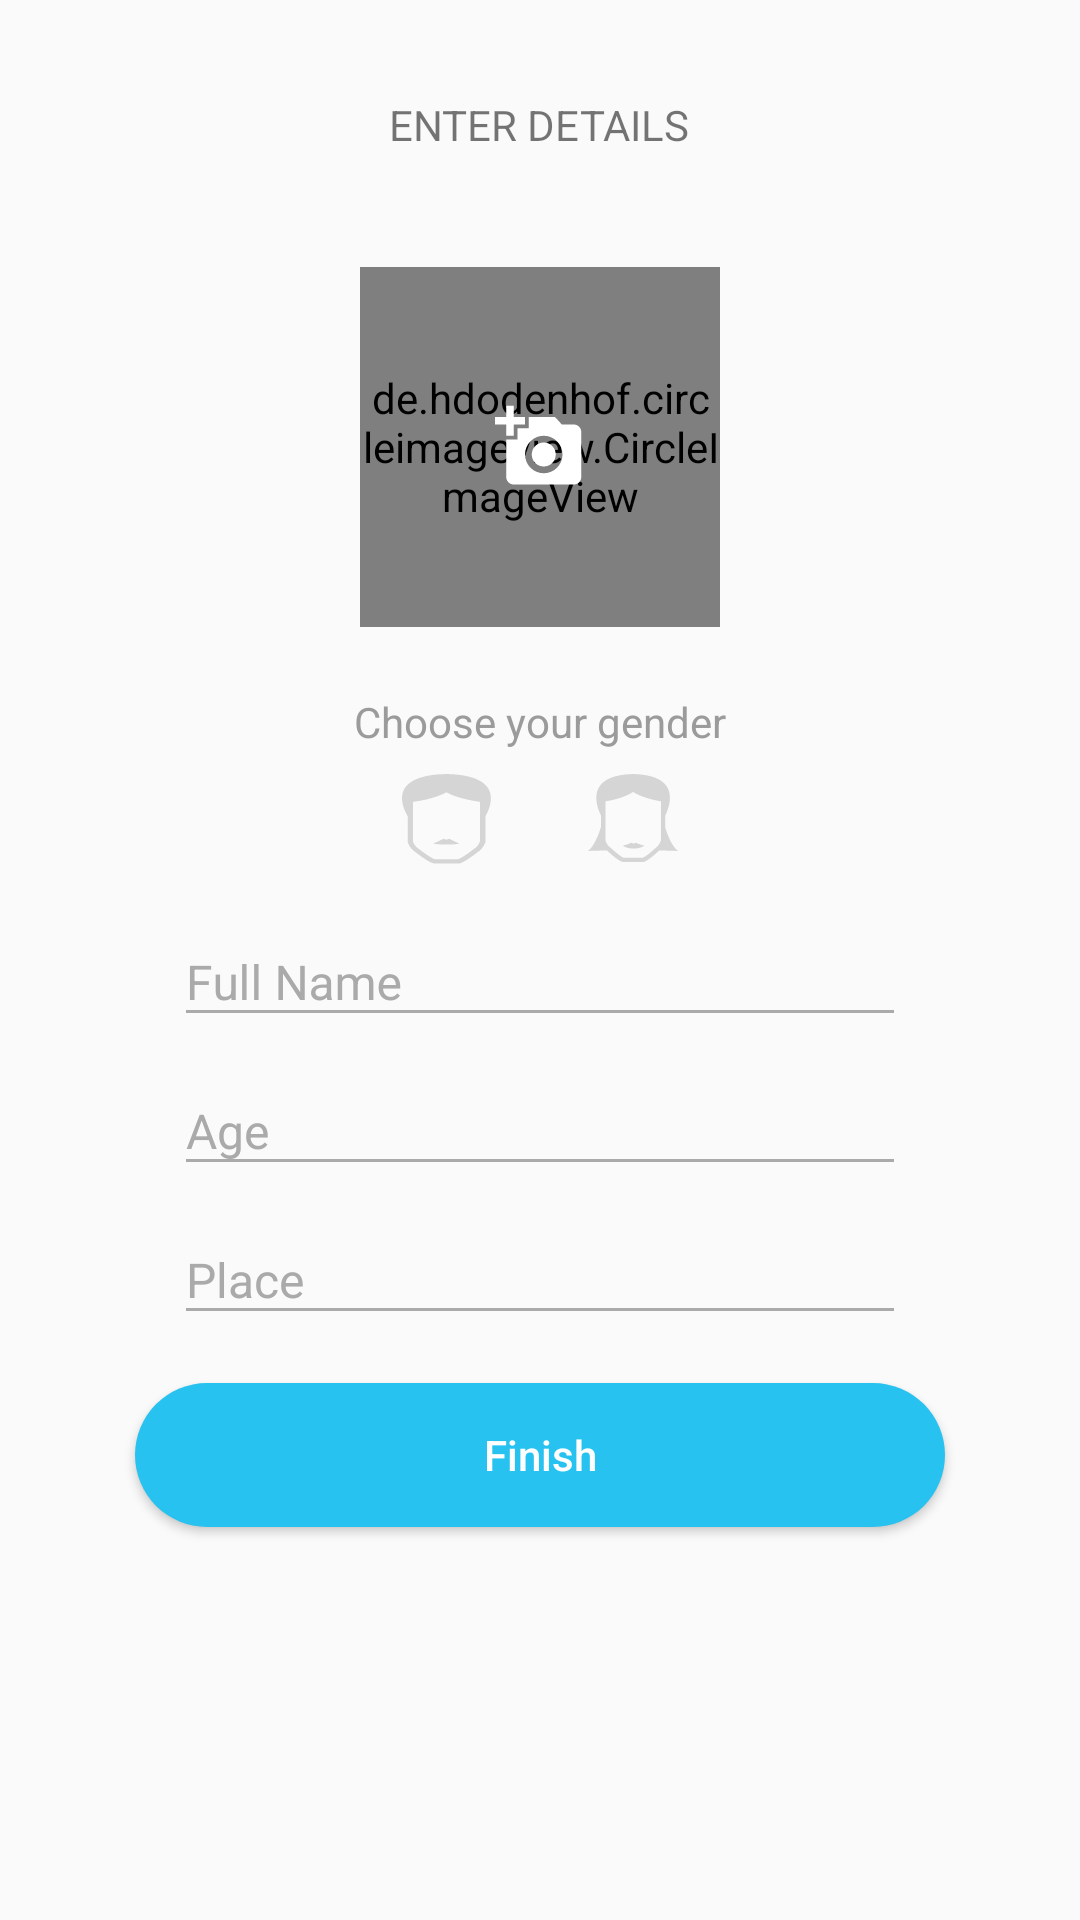

Icons on this 1080x1920 Android screen, each with its box as (x1, y1, x2, y2):
add photo: (495, 402, 585, 492)
gende male: (402, 774, 491, 863)
gender female: (589, 774, 677, 862)
